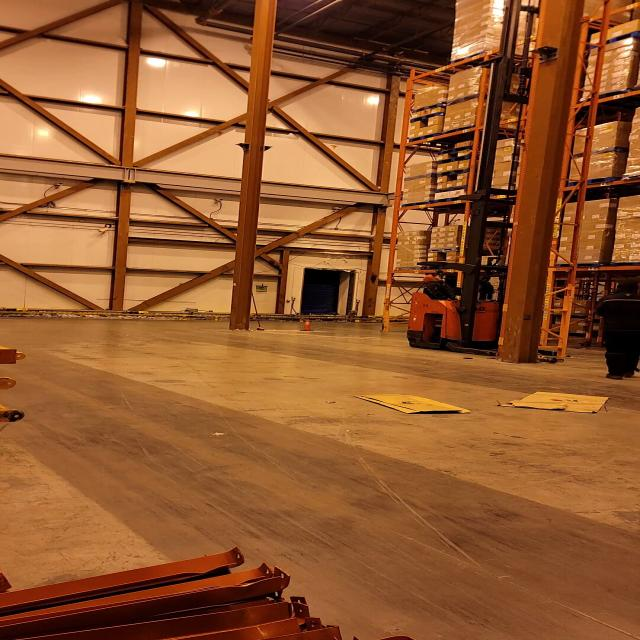forklift: (403, 192, 592, 366)
human: (593, 278, 640, 382), (414, 272, 456, 300)
objectofinterest: (499, 10, 579, 364), (496, 386, 611, 417), (351, 393, 473, 416)
